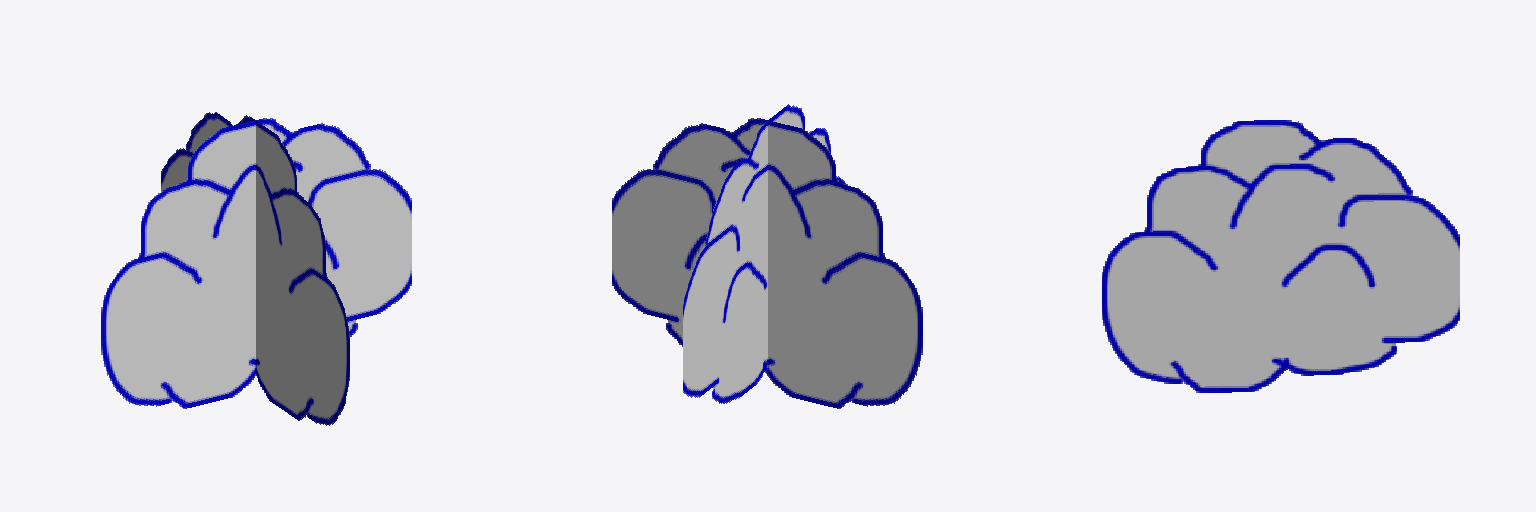
3 renders of one model, left to right at view 1: azimuth 30°, elevation 25°; view 2: azimuth 150°, elevation 25°; view 3: azimuth 270°, elevation 25°, orthographic.
Parts seen in each view (by area): view 1: pPlane2, pasted__pPlane2 group; view 2: pPlane2, pasted__pPlane2 group; view 3: pasted__pPlane2 group.
Part boxes in pixels (bbox=[...]): pPlane2: bbox=[101, 118, 411, 408]; pasted__pPlane2 group: bbox=[161, 112, 349, 425]; pPlane2: bbox=[612, 118, 922, 408]; pasted__pPlane2 group: bbox=[683, 104, 845, 403]; pasted__pPlane2 group: bbox=[1102, 120, 1459, 392].
Bounding box in the file's own units: 1.38 × 1.16 × 1.38.
Materials: 1 (1 with a texture image).